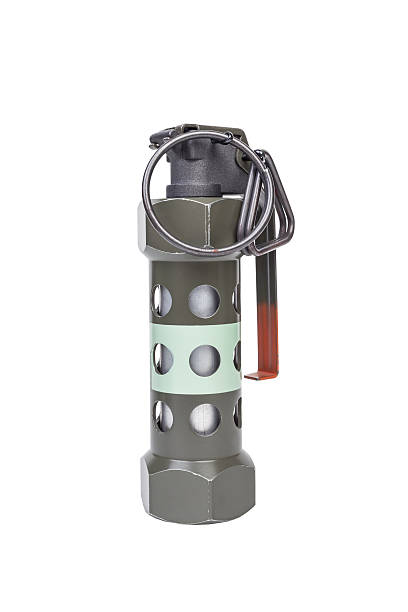e1: (136, 121, 276, 529)
